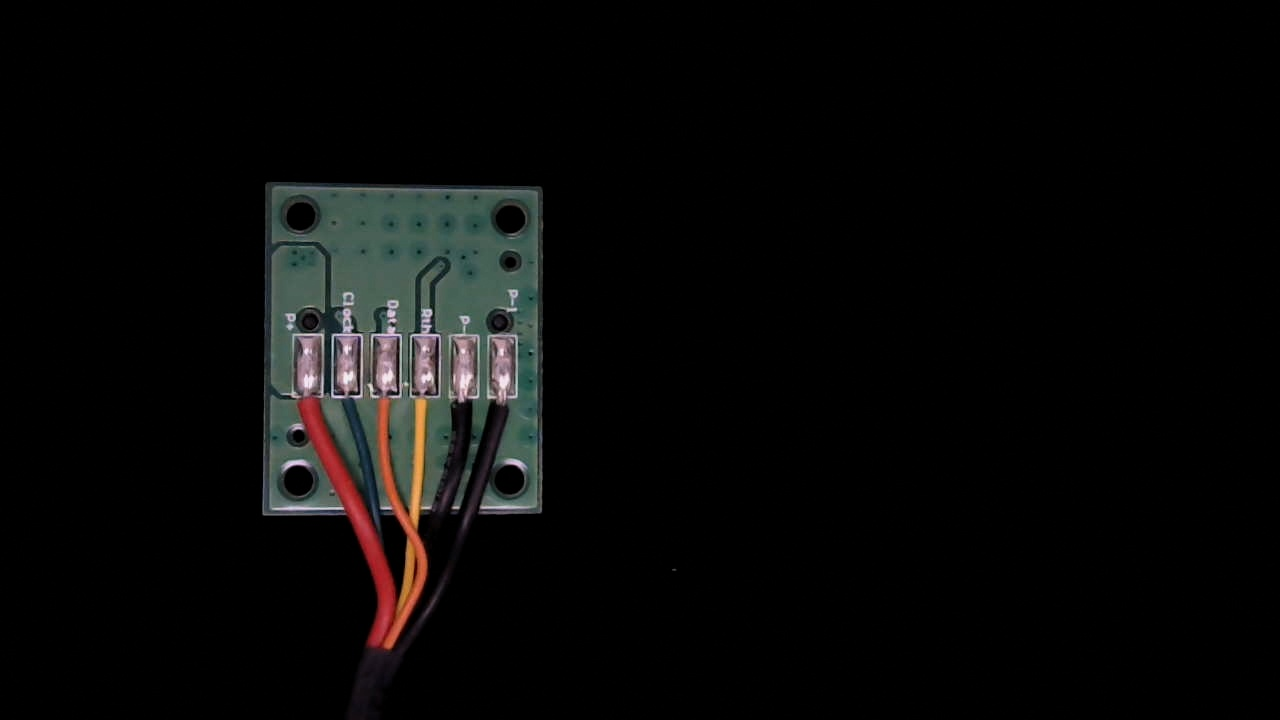Black: (447, 381, 475, 445)
Black1: (488, 382, 517, 443)
Green: (331, 381, 362, 442)
Orange: (367, 381, 401, 443)
Red: (293, 382, 321, 448)
Yellow: (408, 380, 438, 451)
